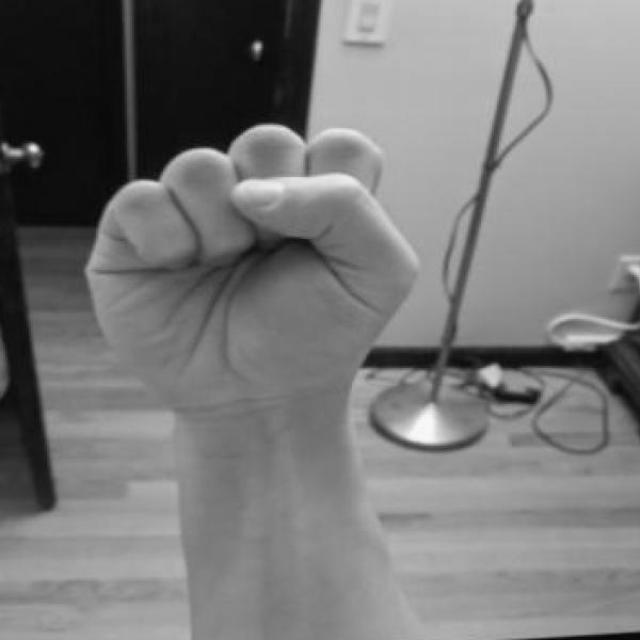S: (74, 127, 439, 475)
